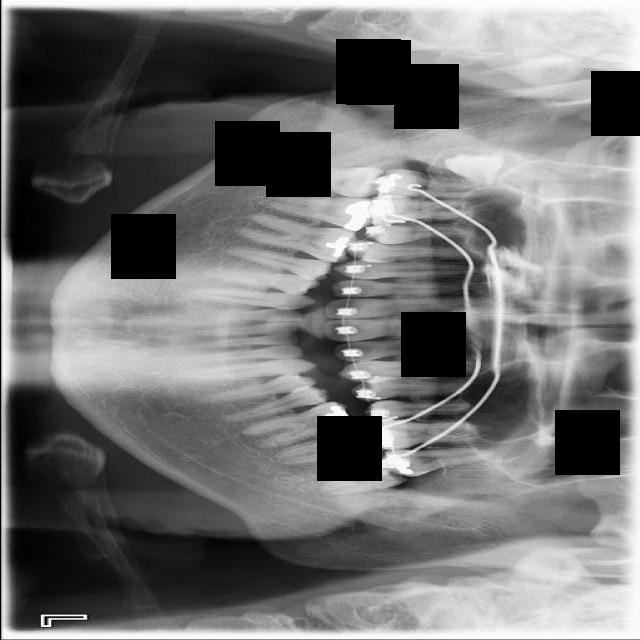3M ESPE Implant: (443, 153, 505, 192)
52: (302, 214, 359, 271), (329, 418, 383, 474), (302, 399, 360, 436), (323, 192, 374, 233)
73: (86, 602, 96, 606)
BioHorizons Implant: (379, 446, 493, 477)
Biomet 3i Implant: (314, 453, 405, 499)
Blue Sky Bio Implant: (273, 427, 380, 465)
Caries: (372, 168, 488, 199)
Implant: (267, 191, 371, 232)
Keystone Dental Implant: (289, 167, 382, 197)
